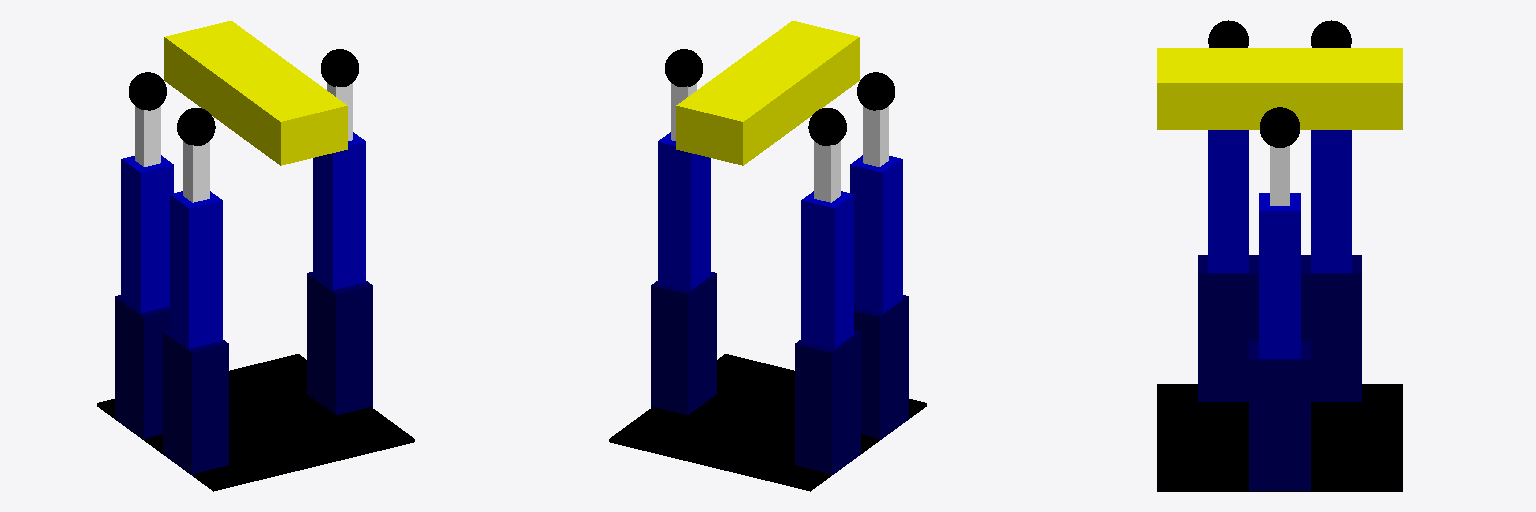
URDF robot description (simple_serial_robot):
<?xml version="1.0"?>
<robot name="simple_serial_robot">

  <material name="blue">
    <color rgba="0 0 0.8 1"/>
  </material>
  <material name="dark_blue">
    <color rgba="0 0 0.4 1"/>
  </material>
  <material name="black">
    <color rgba="0 0 0 1"/>
  </material>
  <material name="white">
    <color rgba="1 1 1 1"/>
  </material>
  <material name="yellow">
    <color rgba="1 1 0 1"/>
  </material>

  <link name="base_link">
    <visual>
      <geometry>
        <box size="0.6 0.6 0.01" />
      </geometry>
      <origin xyz="0 0 0"/>
      <material name="black"/>
    </visual>
  </link>

  <link name="U_arm_base">
    <visual>
      <geometry>
        <box size="0.11 0.15 0.35" />
      </geometry>
      <origin xyz="0 0 0.175"/>
      <material name="dark_blue"/>
    </visual>
  </link>

  <!-- change previous joint so it moves around the z axis instead-->
  <joint name="U_joint1" type="revolute">
    <parent link="base_link"/>
    <child link="U_arm_base"/>
    <origin xyz="0.25 0 0"/>
    <axis xyz="0 0 1"/>
    <limit lower="-3.14" upper="3.14" effort="1000.0" velocity="0.5"/>
  </joint>

  <link name="U_link1">
    <visual>
      <geometry>
        <box size="0.1 0.1 0.4"/>
      </geometry>
      <origin xyz="0 0 0.2"/>
      <material name="blue"/>
    </visual>
  </link>

  <joint name="U_joint2" type="revolute">
    <parent link="U_arm_base"/>
    <child link="U_link1"/>
    <origin xyz="0 0 0.35"/>
    <limit lower="-1.57" upper="1.57" effort="1000.0" velocity="0.5"/>
  </joint>

  <link name="U_link2">
    <visual>
      <geometry>
        <box size="0.05 0.05 0.2"/>
      </geometry>
      <origin xyz="0 0 0.1"/>
      <material name="white"/>
    </visual>
  </link>

  <joint name="U_joint3" type="revolute">
    <parent link="U_link1"/>
    <child link="U_link2"/>
    <origin xyz="0 0 0.4"/>
    <limit lower="-1.57" upper="1.57" effort="1000.0" velocity="0.5"/>
  </joint>
  
  <link name="U_link_eef">
    <visual>
      <geometry>
        <sphere radius="0.05"/>
      </geometry>
      <origin xyz="0 0 0"/>
      <material name="black"/>
    </visual>
  </link>

  <joint name="U_joint_eef" type="fixed">
    <parent link="U_link2"/>
    <child link="U_link_eef"/>
    <origin xyz="0 0 0.2"/>
  </joint>

  <link name="L_arm_base">
    <visual>
      <geometry>
        <box size="0.11 0.15 0.35" />
      </geometry>
      <origin xyz="0 0 0.175"/>
      <material name="dark_blue"/>
    </visual>
  </link>

  <!-- change previous joint so it moves around the z axis instead-->
  <joint name="L_joint1" type="revolute">
    <parent link="base_link"/>
    <child link="L_arm_base"/>
    <origin xyz="-0.25 0.125 0"/>
    <axis xyz="0 0 1"/>
    <limit lower="-3.14" upper="3.14" effort="1000.0" velocity="0.5"/>
  </joint>

  <link name="L_link1">
    <visual>
      <geometry>
        <box size="0.1 0.1 0.4"/>
      </geometry>
      <origin xyz="0 0 0.2"/>
      <material name="blue"/>
    </visual>
  </link>

  <joint name="L_joint2" type="revolute">
    <parent link="L_arm_base"/>
    <child link="L_link1"/>
    <origin xyz="0 0 0.35"/>
    <limit lower="-1.57" upper="1.57" effort="1000.0" velocity="0.5"/>
  </joint>

  <link name="L_link2">
    <visual>
      <geometry>
        <box size="0.05 0.05 0.2"/>
      </geometry>
      <origin xyz="0 0 0.1"/>
      <material name="white"/>
    </visual> 
  </link>

  <joint name="L_joint3" type="revolute">
    <parent link="L_link1"/>
    <child link="L_link2"/>
    <origin xyz="0 0 0.4"/>
    <limit lower="-1.57" upper="1.57" effort="1000.0" velocity="0.5"/>
  </joint>

  <link name="L_link_eef">
    <visual>
      <geometry>
        <sphere radius="0.05"/>
      </geometry>
      <origin xyz="0 0 0"/>
      <material name="black"/>
    </visual>
  </link>

  <joint name="L_joint_eef" type="fixed">
    <parent link="L_link2"/>
    <child link="L_link_eef"/>
    <origin xyz="0 0 0.2"/>
  </joint>

  <link name="R_arm_base">
    <visual>
      <geometry>
        <box size="0.11 0.15 0.35" />
      </geometry>
      <origin xyz="0 0 0.175"/>
      <material name="dark_blue"/>
    </visual>
  </link>

  <!-- change previous joint so it moves around the z axis instead-->
  <joint name="R_joint1" type="revolute">
    <parent link="base_link"/>
    <child link="R_arm_base"/>
    <origin xyz="-0.25 -0.125 0"/>
    <axis xyz="0 0 1"/>
    <limit lower="-3.14" upper="3.14" effort="1000.0" velocity="0.5"/>
  </joint>

  <link name="R_link1">
    <visual>
      <geometry>
        <box size="0.1 0.1 0.4"/>
      </geometry>
      <origin xyz="0 0 0.2"/>
      <material name="blue"/>
    </visual>
  </link>

  <joint name="R_joint2" type="revolute">
    <parent link="R_arm_base"/>
    <child link="R_link1"/>
    <origin xyz="0 0 0.35"/>
    <limit lower="-1.57" upper="1.57" effort="1000.0" velocity="0.5"/>
  </joint>

  <link name="R_link2">
    <visual>
      <geometry>
        <box size="0.05 0.05 0.2"/>
      </geometry>
      <origin xyz="0 0 0.1"/>
      <material name="white"/>
    </visual>
  </link>

  <joint name="R_joint3" type="revolute">
    <parent link="R_link1"/>
    <child link="R_link2"/>
    <origin xyz="0 0 0.4"/>
    <limit lower="-1.57" upper="1.57" effort="1000.0" velocity="0.5"/>
  </joint>

  <link name="R_link_eef">
    <visual>
      <geometry>
        <sphere radius="0.05"/>
      </geometry>
      <origin xyz="0 0 0"/>
      <material name="black"/>
    </visual>
  </link>

  <joint name="R_joint_eef" type="fixed">
    <parent link="R_link2"/>
    <child link="R_link_eef"/>
    <origin xyz="0 0 0.2"/>
  </joint>

  <link name="Box_x">
    <visual>
      <geometry>
        <box size="0 0 0"/>
      </geometry>
      <origin xyz="0 0 0"/>
      <material name="blue"/>
    </visual>
  </link>

  <joint name="Box_x_joint" type="prismatic">
    <parent link="base_link"/>
    <child link="Box_x"/>
    <origin xyz="0 0 0.9375"/>
    <axis xyz="1 0 0"/>
    <limit lower="-2" upper="2" effort="1000.0" velocity="0.5"/>
  </joint>

  <link name="Box_xy">
    <visual>
      <geometry>
        <box size="0 0 0"/>
      </geometry>
      <origin xyz="0 0 0"/>
      <material name="blue"/>
    </visual>
  </link>

  <joint name="Box_y_joint" type="prismatic">
    <parent link="Box_x"/>
    <child link="Box_xy"/>
    <origin xyz="0 0 0"/>
    <axis xyz="0 1 0"/>
    <limit lower="-2" upper="2" effort="1000.0" velocity="0.5"/>
  </joint>

  <link name="Box_xyz">
    <visual>
      <geometry>
        <box size="0 0 0"/>
      </geometry>
      <origin xyz="0 0 0"/>
      <material name="blue"/>
    </visual>
  </link>

  <joint name="Box_z_joint" type="prismatic">
    <parent link="Box_xy"/>
    <child link="Box_xyz"/>
    <origin xyz="0 0 0"/>
    <axis xyz="0 0 1"/>
    <limit lower="-2" upper="2" effort="1000.0" velocity="0.5"/>
  </joint>

  <link name="Box_xyzw">
    <visual>
      <geometry>
        <box size="0 0 0"/>
      </geometry>
      <origin xyz="0 0 0"/>
      <material name="blue"/>
    </visual>
  </link>

  <joint name="Box_w_joint" type="revolute">
    <parent link="Box_xyz"/>
    <child link="Box_xyzw"/>
    <origin xyz="0 0 0"/>
    <axis xyz="0 0 1"/>
    <limit lower="-3.14" upper="3.14" effort="1000.0" velocity="0.5"/>
  </joint>

  <link name="Box_xyzwv">
    <visual>
      <geometry>
        <box size="0 0 0"/>
      </geometry>
      <origin xyz="0 0 0"/>
      <material name="blue"/>
    </visual>
  </link>

  <joint name="Box_v_joint" type="revolute">
    <parent link="Box_xyzw"/>
    <child link="Box_xyzwv"/>
    <origin xyz="0 0 0"/>
    <axis xyz="0 1 0"/>
    <limit lower="-3.14" upper="3.14" effort="1000.0" velocity="0.5"/>
  </joint>

  <link name="Box_xyzwvu">
    <visual>
      <geometry>
        <box size="0.2 0.6 0.125"/>
      </geometry>
      <origin xyz="0 0 0."/>
      <material name="yellow"/>
    </visual>
  </link>

  <joint name="Box_u_joint" type="revolute">
    <parent link="Box_xyzwv"/>
    <child link="Box_xyzwvu"/>
    <origin xyz="0 0 0"/>
    <axis xyz="1 0 0"/>
    <limit lower="-3.14" upper="3.14" effort="1000.0" velocity="0.5"/>
  </joint>

  <link name="Box_contact_U">
    <visual>
      <geometry>
        <box size="0 0 0"/>
      </geometry>
      <origin xyz="0 0 0"/>
      <material name="white"/>
    </visual>
  </link>

  <joint name="Box_contact_U_joint" type="fixed">
    <parent link="Box_xyzwvu"/>
    <child link="Box_contact_U"/>
    <origin xyz="0.15 0 0"/>
  </joint>

  <link name="Box_contact_L">
    <visual>
      <geometry>
        <box size="0 0 0"/>
      </geometry>
      <origin xyz="0 0 0"/>
      <material name="white"/>
    </visual>
  </link>

  <joint name="Box_contact_L_joint" type="fixed">
    <parent link="Box_xyzwvu"/>
    <child link="Box_contact_L"/>
    <origin xyz="-0.15 0.125 0"/>
  </joint>

  <link name="Box_contact_R">
    <visual>
      <geometry>
        <box size="0 0 0"/>
      </geometry>
      <origin xyz="0 0 0"/>
      <material name="white"/>
    </visual>
  </link>

  <joint name="Box_contact_R_joint" type="fixed">
    <parent link="Box_xyzwvu"/>
    <child link="Box_contact_R"/>
    <origin xyz="-0.15 -0.125 0"/>
  </joint>

</robot>

--- What the picture shows (computed from the rendered views, not written in the file) ---
The picture shows the robot from 3 angles, left to right: view 1: azimuth 30°, elevation 25°; view 2: azimuth 150°, elevation 25°; view 3: azimuth 270°, elevation 25°; orthographic projection.
Model simple_serial_robot with 22 links and 21 joints (12 revolute, 3 prismatic, 6 fixed), rooted at base_link, posed every joint at zero.
Visible links, largest first — view 1: Box_xyzwvu, base_link, R_arm_base, U_arm_base, R_link1, L_link1, U_link1, L_arm_base, R_link2, L_link2, U_link_eef, R_link_eef (+2 smaller); view 2: Box_xyzwvu, base_link, L_arm_base, U_arm_base, L_link1, R_link1, U_link1, R_arm_base, L_link2, R_link2, U_link_eef, L_link_eef (+2 smaller); view 3: Box_xyzwvu, base_link, U_arm_base, L_arm_base, R_arm_base, U_link1, L_link1, R_link1, U_link_eef, U_link2, L_link_eef, R_link_eef.
Link boxes in pixels (bbox=[...]): Box_xyzwvu: bbox=[164, 21, 347, 165]; base_link: bbox=[97, 354, 414, 491]; R_arm_base: bbox=[163, 330, 228, 475]; U_arm_base: bbox=[307, 272, 372, 414]; R_link1: bbox=[170, 191, 222, 348]; L_link1: bbox=[121, 155, 173, 312]; U_link1: bbox=[313, 132, 365, 289]; L_arm_base: bbox=[115, 295, 169, 439]; R_link2: bbox=[183, 141, 209, 202]; L_link2: bbox=[135, 106, 160, 166]; U_link_eef: bbox=[321, 49, 358, 86]; R_link_eef: bbox=[177, 108, 215, 145]; Box_xyzwvu: bbox=[676, 21, 859, 165]; base_link: bbox=[609, 354, 926, 491]; L_arm_base: bbox=[795, 330, 860, 475]; U_arm_base: bbox=[651, 272, 716, 414]; L_link1: bbox=[801, 191, 853, 348]; R_link1: bbox=[850, 155, 902, 312]; U_link1: bbox=[658, 132, 710, 289]; R_arm_base: bbox=[854, 295, 908, 439]; L_link2: bbox=[814, 141, 840, 202]; R_link2: bbox=[863, 106, 888, 166]; U_link_eef: bbox=[665, 49, 702, 86]; L_link_eef: bbox=[808, 108, 846, 145]; Box_xyzwvu: bbox=[1157, 48, 1402, 129]; base_link: bbox=[1157, 384, 1402, 491]; U_arm_base: bbox=[1249, 341, 1310, 490]; L_arm_base: bbox=[1301, 255, 1361, 401]; R_arm_base: bbox=[1198, 255, 1258, 401]; U_link1: bbox=[1259, 193, 1300, 358]; L_link1: bbox=[1311, 130, 1351, 272]; R_link1: bbox=[1208, 130, 1248, 272]; U_link_eef: bbox=[1260, 107, 1299, 147]; U_link2: bbox=[1270, 146, 1289, 205]; L_link_eef: bbox=[1311, 20, 1351, 47]; R_link_eef: bbox=[1208, 20, 1248, 47].
Bounding box of the posed robot: 0.61 × 0.6 × 1 m (x, y, z).
Geometry: primitives only (box / cylinder / sphere), no mesh files.